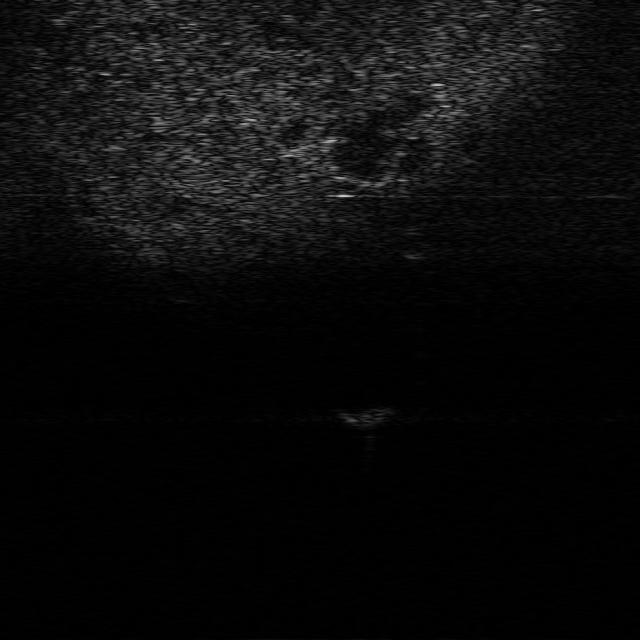ball: (392, 228, 438, 260)
cube: (328, 406, 398, 431)
